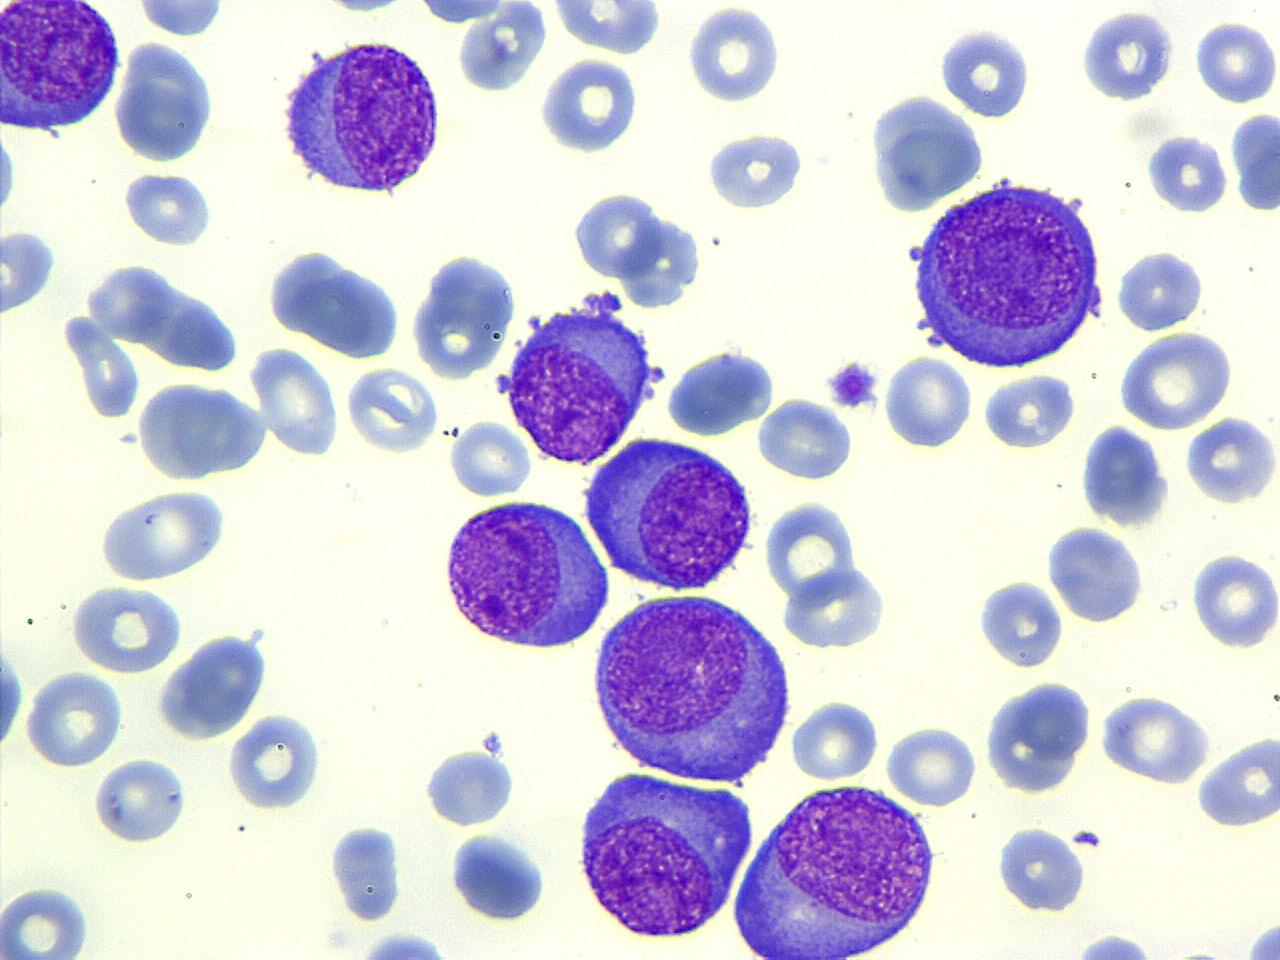Platelets: (684, 4, 786, 106), (935, 26, 1033, 120), (118, 169, 218, 250), (326, 822, 405, 923), (1143, 132, 1231, 216), (824, 358, 880, 412), (354, 930, 454, 960), (0, 640, 26, 753), (1070, 932, 1156, 960), (0, 129, 19, 217), (1246, 920, 1280, 960), (322, 0, 397, 16), (1170, 942, 1228, 960), (479, 729, 506, 758), (1069, 828, 1103, 850), (648, 364, 668, 385), (905, 242, 924, 262)
RBC: (95, 484, 228, 584), (992, 812, 1094, 936), (1115, 327, 1233, 434), (68, 580, 185, 676), (1098, 692, 1212, 787), (247, 345, 342, 457), (22, 668, 126, 770), (686, 3, 786, 107), (881, 352, 976, 451), (1188, 548, 1280, 650), (90, 755, 191, 847), (754, 394, 858, 482), (342, 363, 441, 455), (1182, 413, 1278, 506), (882, 720, 980, 808), (788, 696, 880, 782), (1194, 14, 1278, 108), (0, 880, 94, 960), (446, 417, 532, 497), (1230, 107, 1280, 215)
WBC: (586, 584, 796, 789), (899, 171, 1107, 373), (723, 776, 945, 958), (571, 764, 758, 942), (275, 32, 448, 203), (580, 430, 756, 596), (437, 493, 614, 655), (500, 287, 657, 468), (760, 493, 900, 655), (568, 184, 712, 309), (0, 0, 124, 135), (264, 244, 405, 360), (407, 247, 522, 383), (864, 89, 988, 213), (132, 377, 270, 484), (110, 36, 221, 166), (982, 674, 1097, 798), (154, 626, 274, 744), (95, 483, 234, 584), (1117, 327, 1235, 433), (536, 53, 644, 158), (69, 580, 187, 676), (1043, 521, 1149, 626), (663, 344, 780, 439), (22, 665, 125, 770), (1077, 419, 1173, 530), (225, 710, 326, 814), (1075, 5, 1179, 105), (935, 23, 1036, 122), (450, 0, 552, 98), (446, 829, 550, 923), (700, 128, 811, 214), (90, 754, 191, 848), (992, 824, 1090, 918), (974, 574, 1067, 672), (1193, 730, 1280, 833), (1183, 413, 1279, 506), (420, 743, 520, 830), (758, 397, 856, 484), (1110, 247, 1208, 334), (980, 367, 1080, 452), (120, 165, 218, 250), (326, 820, 404, 924), (1143, 130, 1231, 217), (547, 1, 666, 57), (1, 216, 61, 324), (1228, 106, 1280, 213), (1, 620, 27, 774), (129, 0, 231, 37), (349, 927, 460, 959), (1066, 929, 1164, 960), (1244, 918, 1278, 960)
